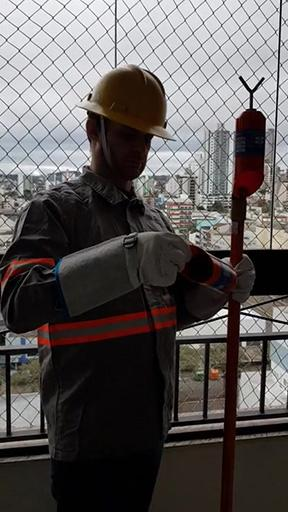Detector_Tensao_Contato: (234, 74, 266, 197)
Vara_Manobra: (221, 195, 246, 512)
